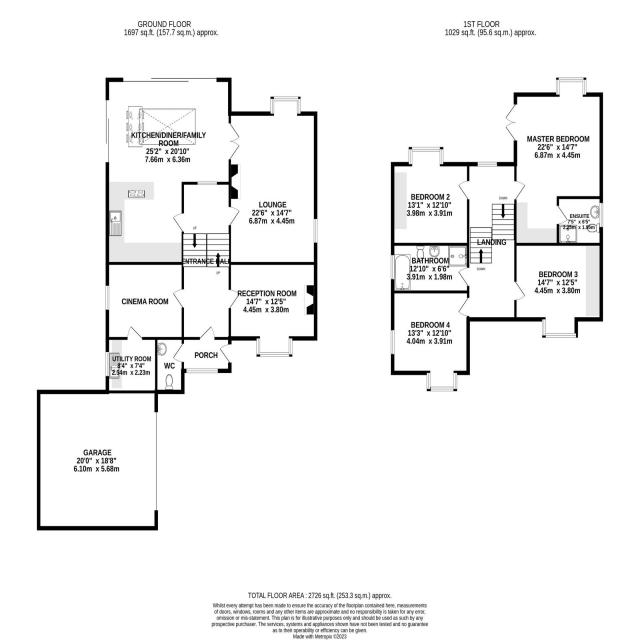DOOR: (514, 280, 527, 301), (457, 180, 470, 201), (219, 343, 232, 363), (172, 342, 184, 363), (514, 180, 526, 200), (556, 205, 568, 225), (457, 297, 469, 317), (228, 289, 240, 309), (199, 325, 215, 340), (127, 325, 143, 340), (172, 288, 184, 308), (172, 213, 184, 232), (458, 267, 469, 287), (229, 206, 240, 226)
DOUBLE DOOR: (505, 103, 517, 141), (228, 122, 240, 160)
ROOM: (105, 77, 240, 265), (504, 77, 603, 246), (228, 96, 318, 265), (228, 262, 318, 357), (514, 242, 603, 338), (390, 290, 470, 392), (390, 146, 470, 246), (105, 261, 184, 340)
SLIDING DOOR: (123, 76, 217, 82), (105, 99, 110, 163)
WINDOW: (256, 338, 293, 357), (408, 146, 444, 165), (541, 319, 576, 338), (555, 76, 587, 96), (426, 372, 458, 392), (270, 96, 301, 114), (186, 368, 218, 374), (599, 202, 604, 228), (390, 329, 395, 355), (313, 218, 318, 244), (477, 161, 498, 167), (390, 255, 395, 280), (105, 351, 109, 377), (105, 285, 109, 310), (197, 181, 217, 185)
